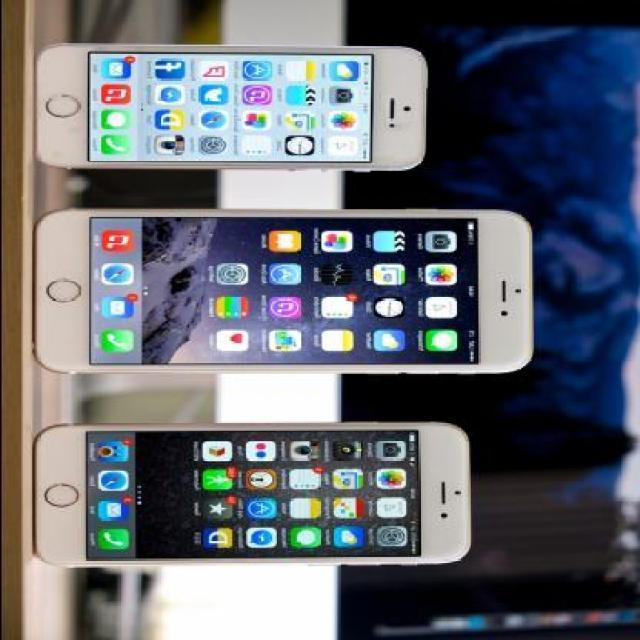phone: (30, 208, 532, 376), (28, 422, 470, 560), (30, 43, 428, 172)
